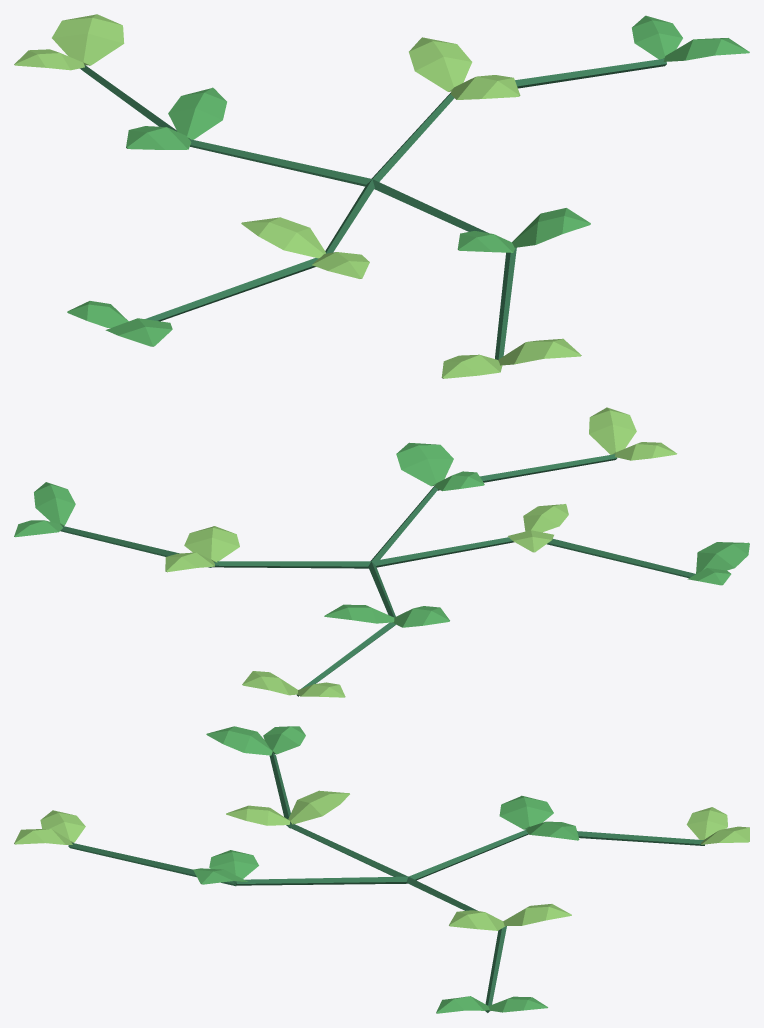
Rendered from plant_creeper_b.glb.
3 views of the same model, one above another, from view 1: azimuth 30°, elevation 25°; view 2: azimuth 150°, elevation 25°; view 3: azimuth 270°, elevation 25° (orthographic). The views are drawn at different scales.
Visible parts, largest first — view 1: PlantCreeperB; view 2: PlantCreeperB; view 3: PlantCreeperB.
Part boxes in pixels (left/top/right/bottom): PlantCreeperB: left=14, top=14, right=749, bottom=378; PlantCreeperB: left=14, top=407, right=749, bottom=697; PlantCreeperB: left=14, top=726, right=749, bottom=1013.
Size of the model in its own units: 1.04 by 0.062 by 1.11.
